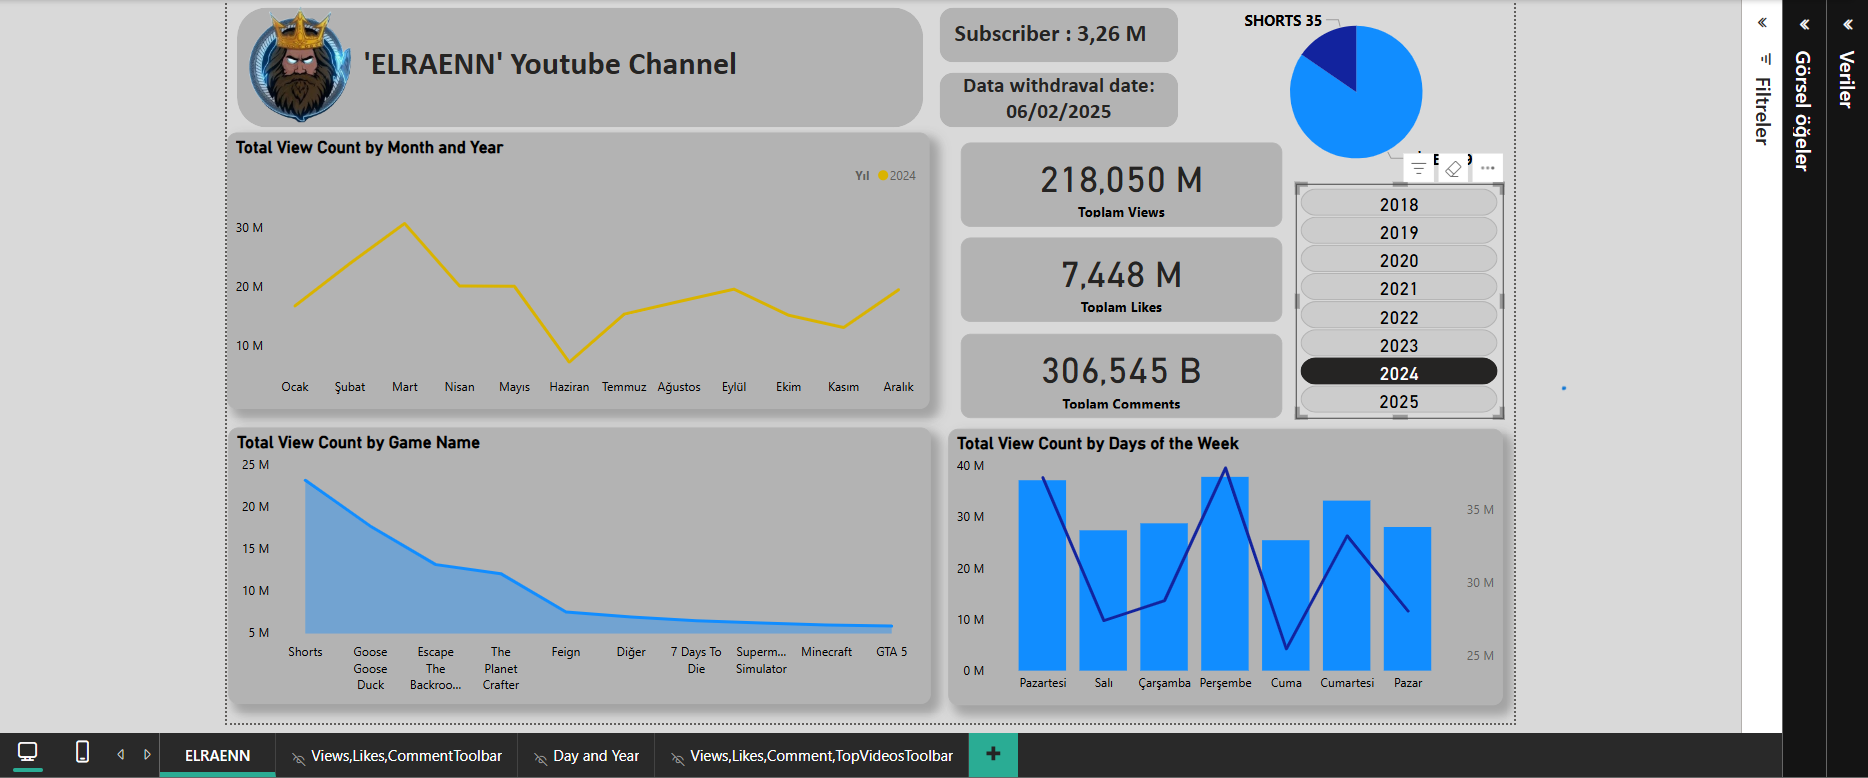

The page's visual inventory and layout, read from the dashboard file:
{"tool":"powerbi","page":{"name":"ELRAENN","canvas":[1280,720],"ordinal":0},"visuals":[{"type":"shape","box":[10,7.5,682.9,119.4],"z":0},{"type":"textbox","box":[130.6,38.6,562.3,56],"z":1000},{"type":"shape","box":[709.1,7.5,237.6,54.7],"z":2000},{"type":"shape","box":[709.1,72.1,237.6,54.7],"z":3000},{"type":"textbox","box":[719,12.4,220.2,54.7],"z":4000},{"type":"textbox","box":[717.8,67.2,220.2,64.7],"z":5000},{"type":"pieChart","fields":{"Category":["Elraenn.Video_Type"],"Y":["CountNonNull(Elraenn.Video_Type)"]},"box":[967.5,0,312.5,183.8],"z":6000},{"type":"lineChart","title":"Total View Count by Month and Year","fields":{"Category":["Elraenn.Published_At_Date.Varyasyon.Tarih Hiyerarşisi.Ay"],"Y":["Sum(Elraenn.Views)"],"Series":["Elraenn.Published_At_Date.Varyasyon.Tarih Hiyerarşisi.Yıl"]},"box":[0,132.3,699.3,275.3],"z":7000},{"type":"areaChart","title":"Total View Count by Game Name","fields":{"Category":["Elraenn.Game_Name"],"Y":["Sum(Elraenn.Views)"]},"box":[1,426,699.3,275.3],"z":8000},{"type":"lineClusteredColumnComboChart","title":"Total View Count by Days of the Week","fields":{"Y2":["Sum(Elraenn.Views)"],"Y":["Sum(Elraenn.Views)"],"Category":["Elraenn.Day Name"]},"box":[717.8,426.7,552.3,274.9],"z":9000},{"type":"card","fields":{"Values":["Sum(Elraenn.Views)"]},"box":[730,141.2,320,83.8],"z":10000},{"type":"card","fields":{"Values":["Sum(Elraenn.Likes)"]},"box":[730,236.2,320,83.8],"z":11000},{"type":"card","fields":{"Values":["Sum(Elraenn.Comments)"]},"box":[730,332.5,320,83.8],"z":12000},{"type":"advancedSlicerVisual","fields":{"Values":["Elraenn.Published_At_Date.Varyasyon.Tarih Hiyerarşisi.Yıl"]},"box":[1064.1,182.9,206.2,233.4],"z":13000},{"type":"image","box":[10,0,130.6,127],"z":14000}]}

Visuals, with their boxes on the page's 1280x720 design canvas (x1, y1, x2, y2). These are canvas units, not pixel positions in the 1868x778 screenshot, which may show the page scaled, cropped or inside an application window:
shape: Rect(10, 8, 693, 127)
textbox: Rect(131, 39, 693, 95)
shape: Rect(709, 8, 947, 62)
shape: Rect(709, 72, 947, 127)
textbox: Rect(719, 12, 939, 67)
textbox: Rect(718, 67, 938, 132)
pieChart - Elraenn.Video_Type x CountNonNull(Elraenn.Video_Type): Rect(968, 0, 1280, 184)
"Total View Count by Month and Year" lineChart: Rect(0, 132, 699, 408)
"Total View Count by Game Name" areaChart: Rect(1, 426, 700, 701)
"Total View Count by Days of the Week" lineClusteredColumnComboChart: Rect(718, 427, 1270, 702)
card - Sum(Elraenn.Views): Rect(730, 141, 1050, 225)
card - Sum(Elraenn.Likes): Rect(730, 236, 1050, 320)
card - Sum(Elraenn.Comments): Rect(730, 332, 1050, 416)
advancedSlicerVisual - Elraenn.Published_At_Date.Varyasyon.Tarih Hiyerarşisi.Yıl: Rect(1064, 183, 1270, 416)
image: Rect(10, 0, 141, 127)
